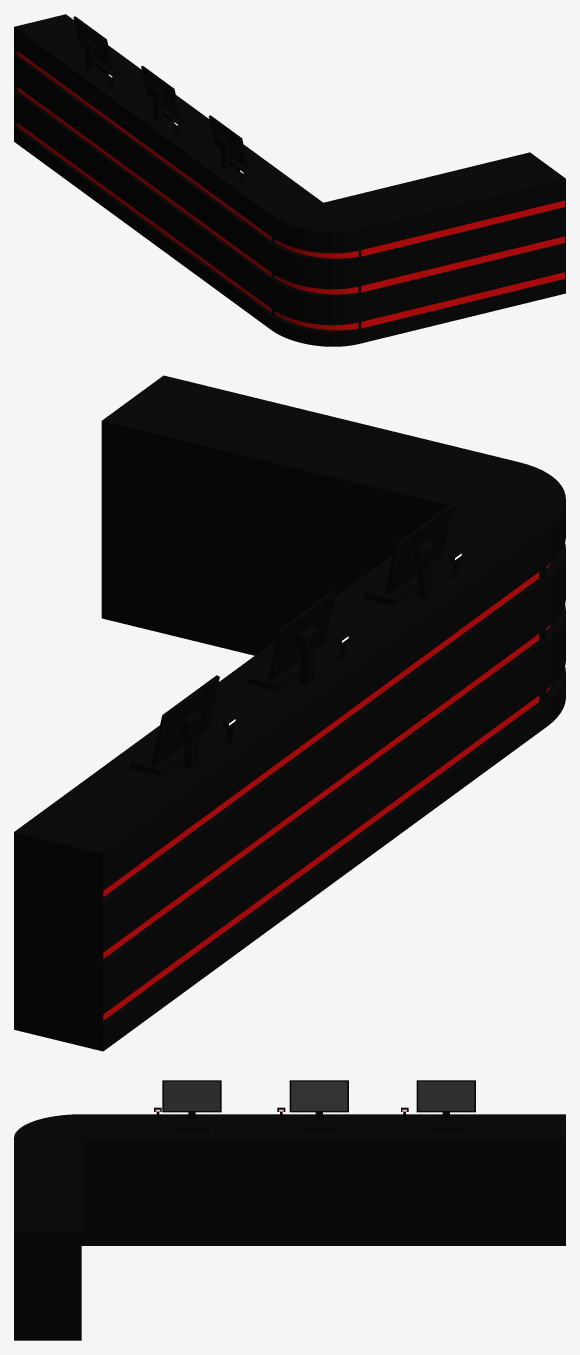
File: register.fbx
The picture shows the model from 3 angles, top to bottom: view 1: azimuth 30°, elevation 25°; view 2: azimuth 150°, elevation 25°; view 3: azimuth 270°, elevation 25°; orthographic projection. The views are drawn at different scales.
Parts seen in each view (by area): view 1: Cash desk, Monitor_#2, Monitor_#1, Monitor_#3; view 2: Cash desk, Monitor_#3, Monitor_#1, Monitor_#2, Register_#3, Register_#1, Register_#2; view 3: Cash desk, Monitor_#3, Monitor_#1, Monitor_#2, Register_#3, Register_#1, Register_#2.
Part boxes in pixels (left/top/right/bottom): Cash desk: left=14, top=14, right=565, bottom=346; Monitor_#2: left=141, top=66, right=180, bottom=127; Monitor_#1: left=73, top=16, right=112, bottom=77; Monitor_#3: left=208, top=115, right=248, bottom=177; Cash desk: left=14, top=375, right=565, bottom=1051; Monitor_#3: left=384, top=505, right=452, bottom=611; Monitor_#1: left=151, top=675, right=220, bottom=781; Monitor_#2: left=268, top=590, right=336, bottom=696; Register_#3: left=363, top=574, right=417, bottom=605; Register_#1: left=130, top=744, right=184, bottom=776; Register_#2: left=246, top=659, right=300, bottom=691; Cash desk: left=14, top=1114, right=565, bottom=1340; Monitor_#3: left=162, top=1080, right=221, bottom=1120; Monitor_#1: left=416, top=1080, right=475, bottom=1120; Monitor_#2: left=289, top=1080, right=348, bottom=1120; Register_#3: left=172, top=1120, right=209, bottom=1131; Register_#1: left=427, top=1120, right=463, bottom=1131; Register_#2: left=300, top=1120, right=336, bottom=1131.
Size of the model in its own units: 494 by 287 by 973.
